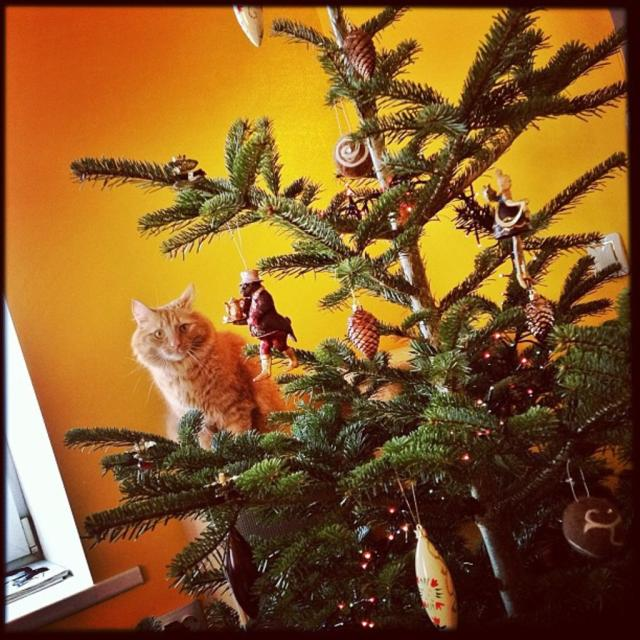Cat: (113, 273, 313, 451)
